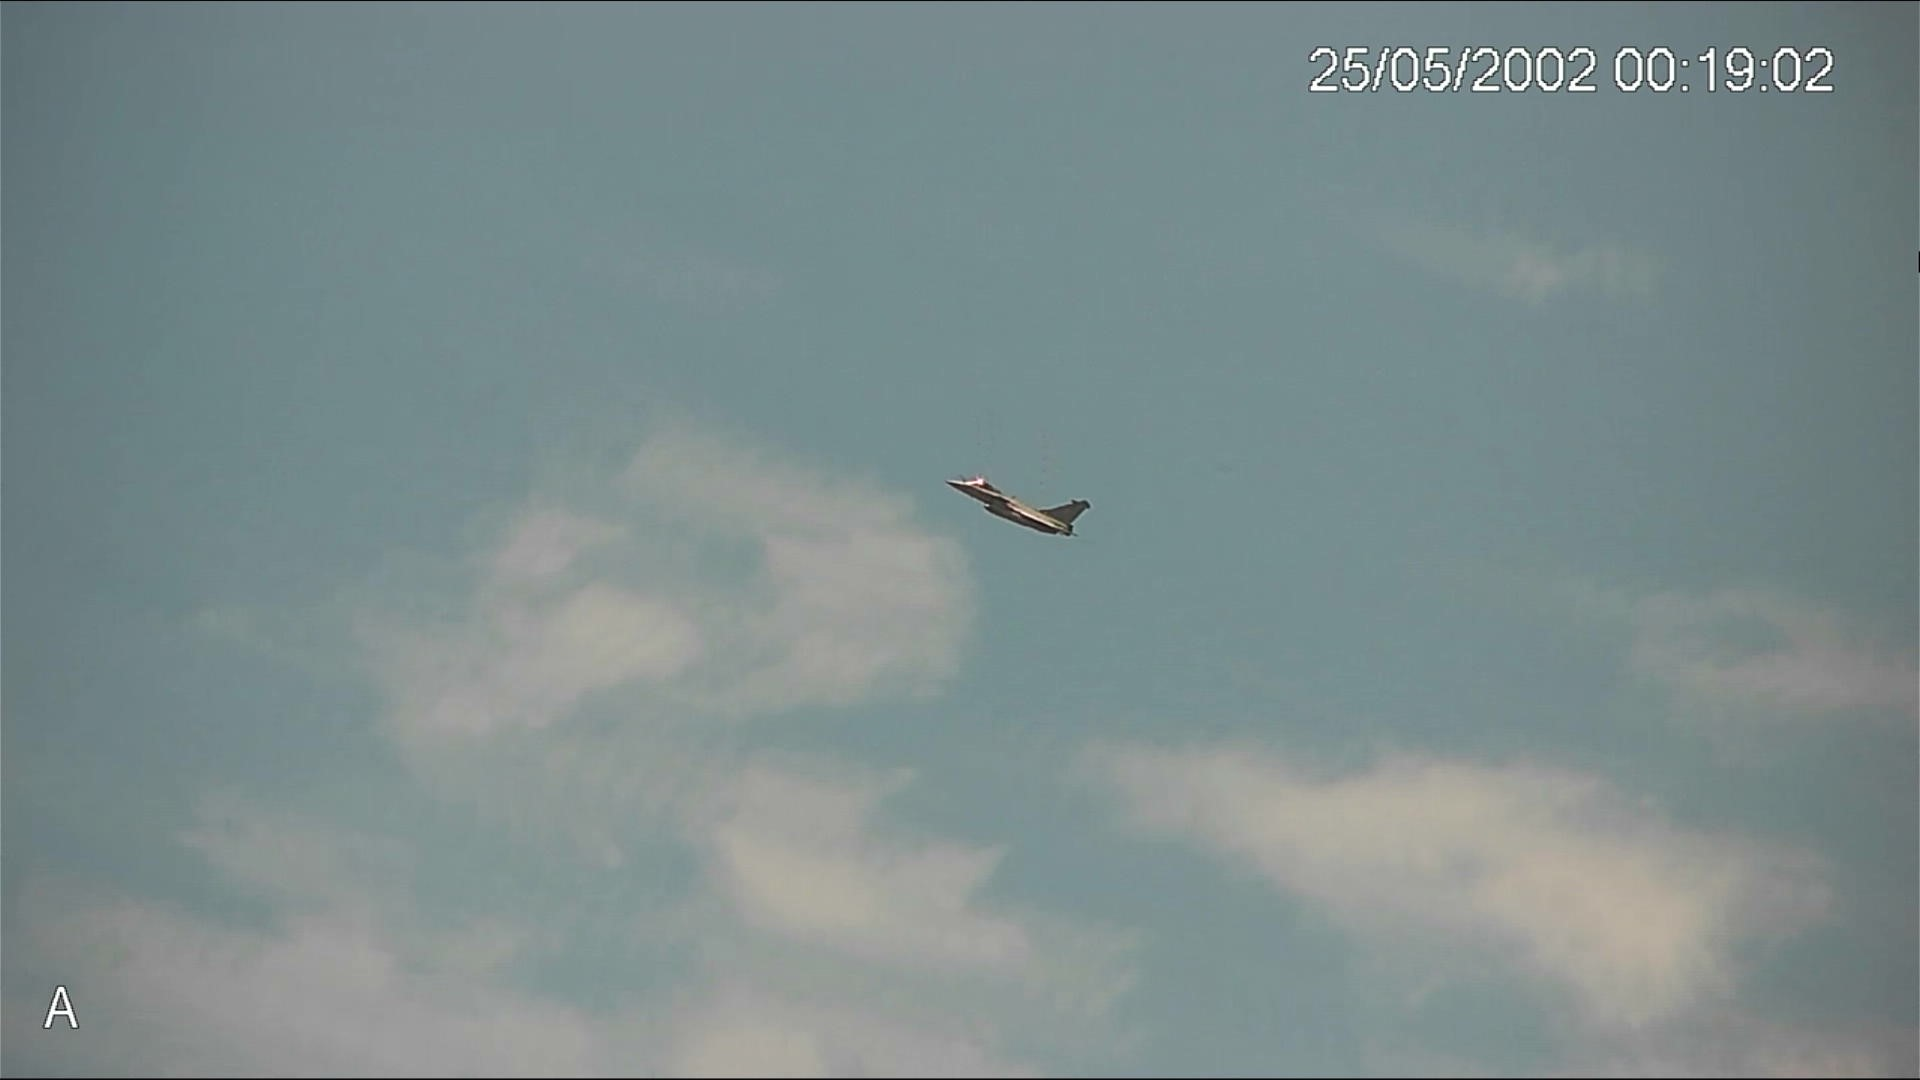SU_30: (942, 469, 1091, 549)
